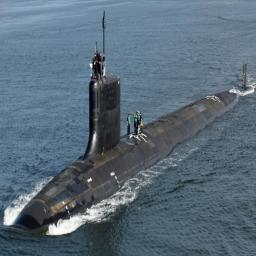submarine: (7, 8, 250, 240)
